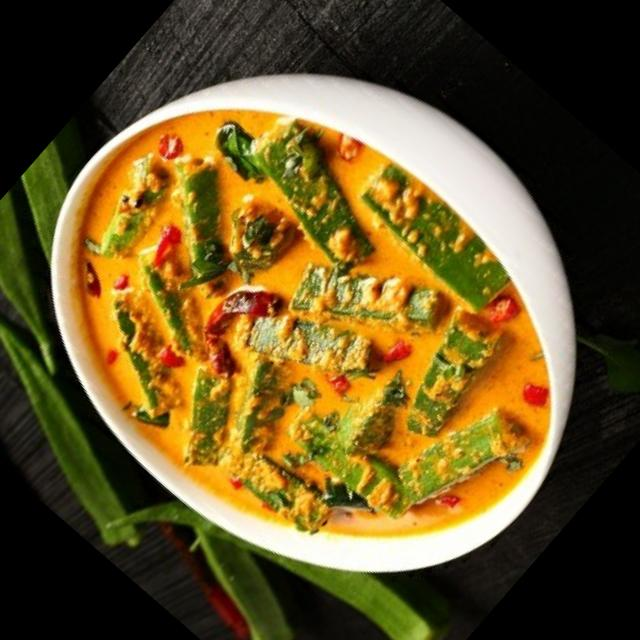BhindiMasala: (0, 20, 625, 640)
